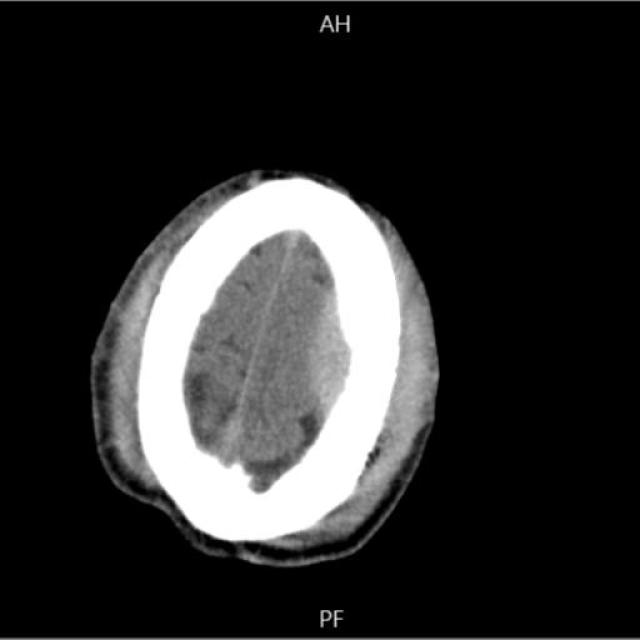Subdural: (292, 276, 358, 422)
